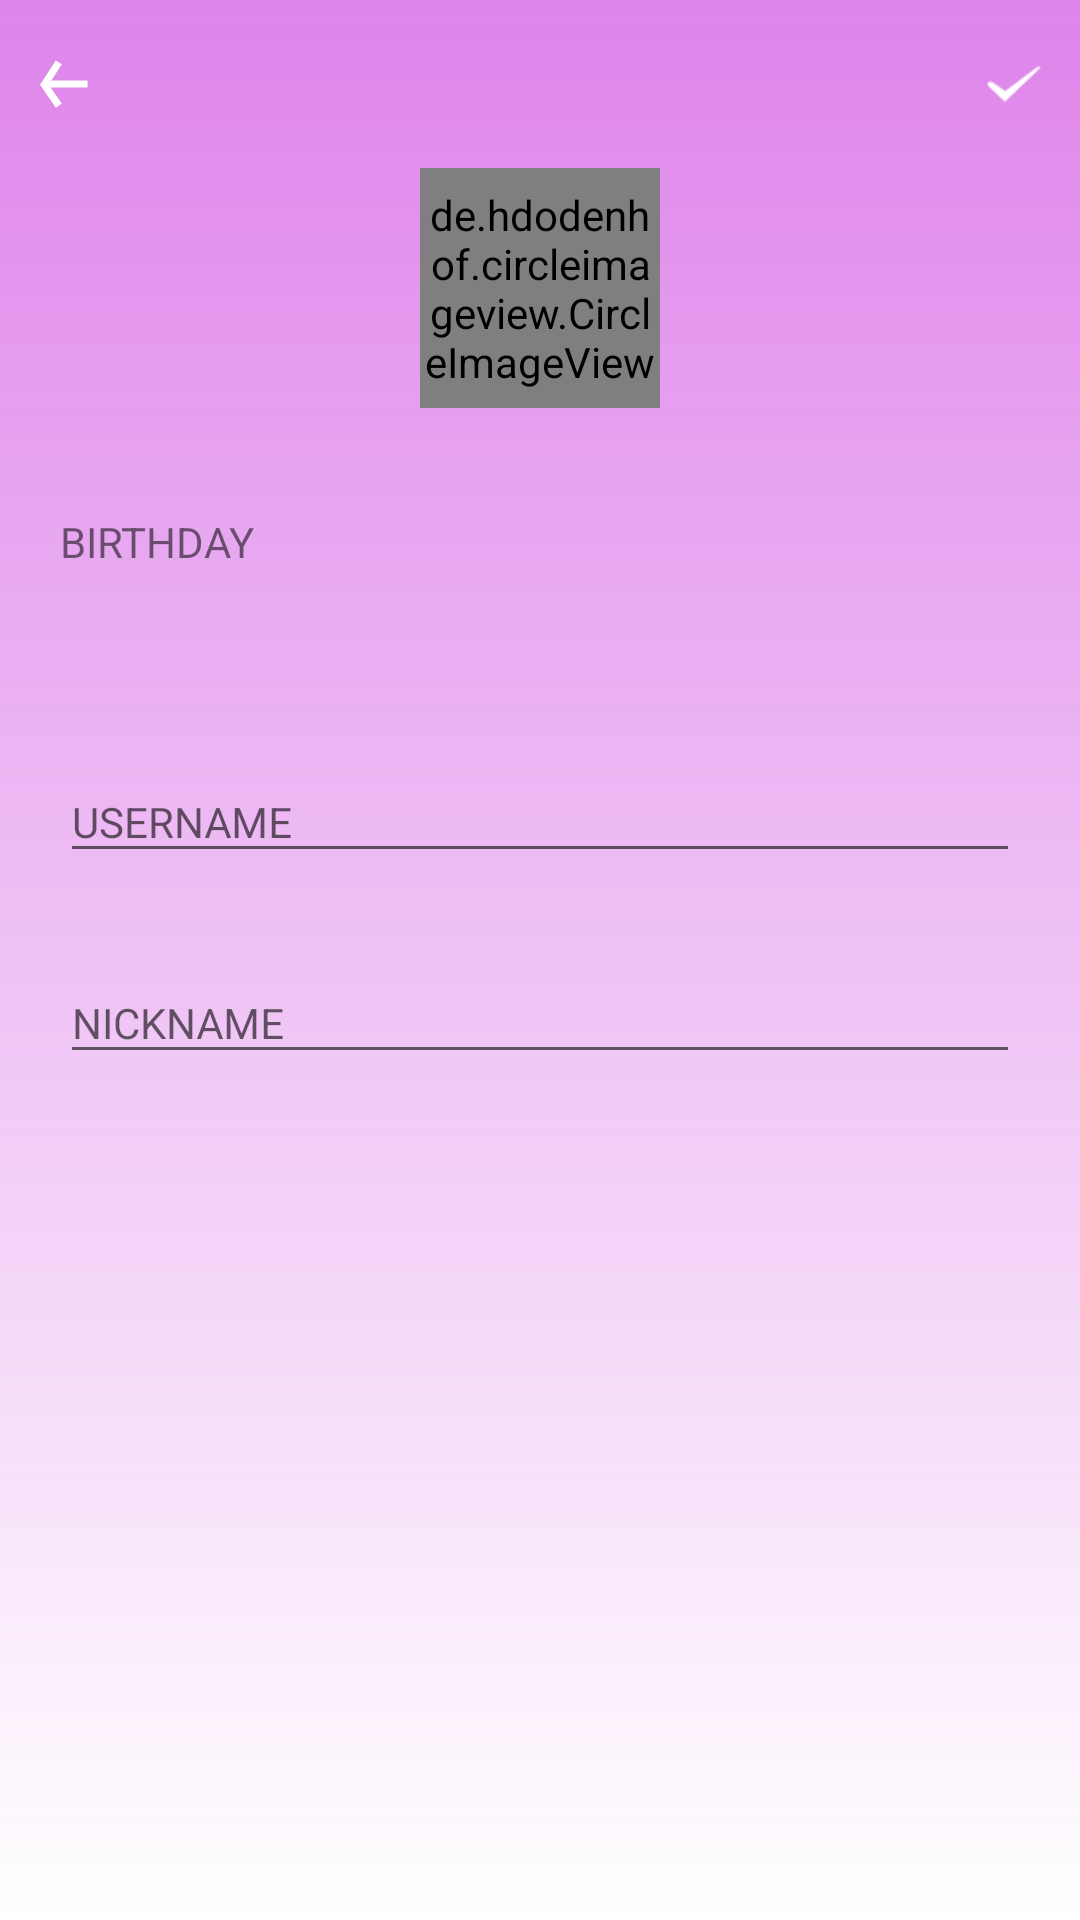

Icons on this 1080w x 1920h Android screen, each with the point to tap as [x,y]:
back: [64,84]
yes: [1013,84]
